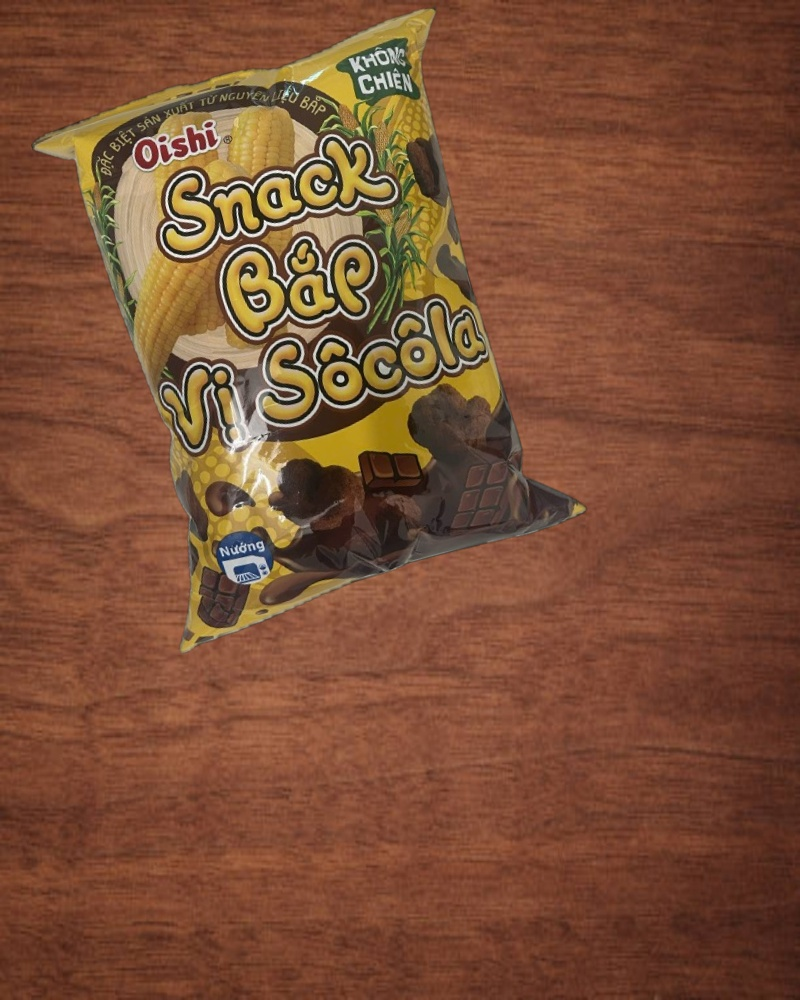Snack socola: (27, 5, 594, 645)
